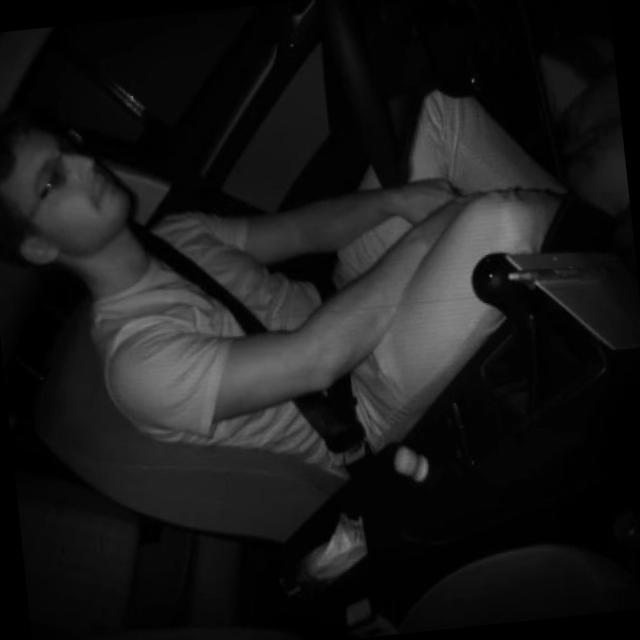pen: (506, 259, 620, 287)
